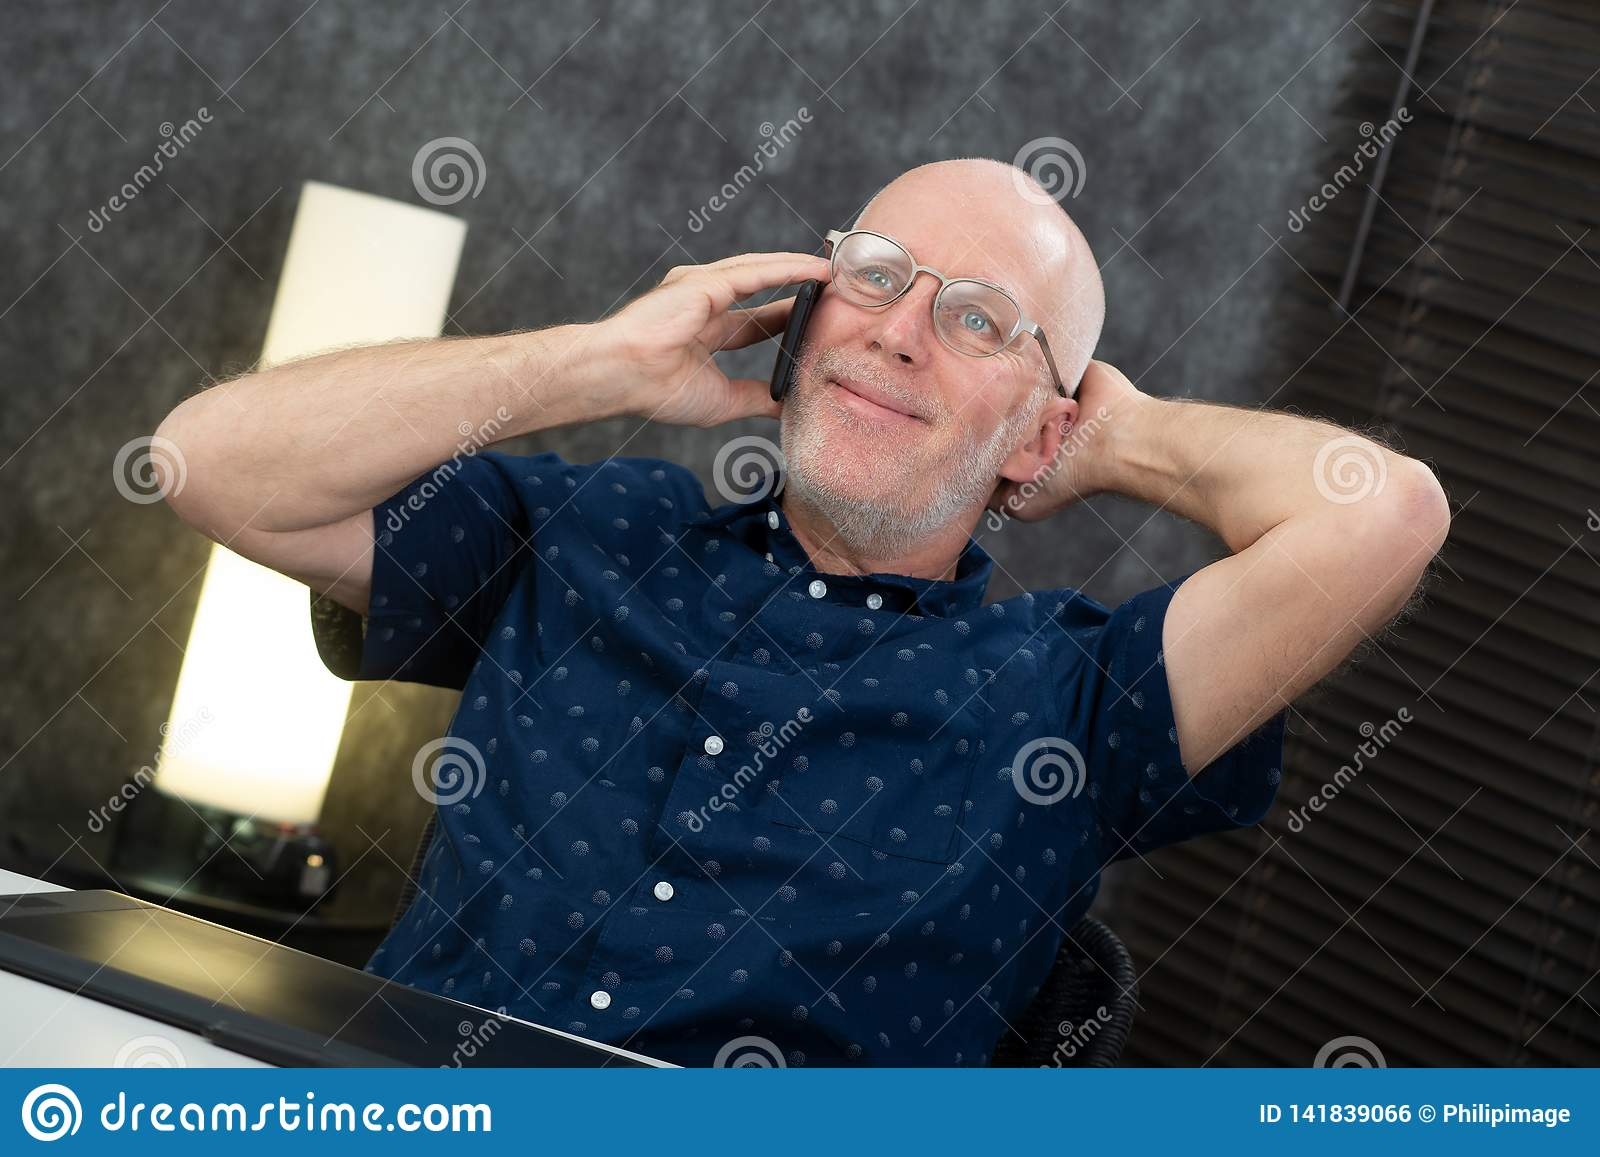phone: (769, 263, 827, 404)
talk: (606, 215, 1040, 538)
